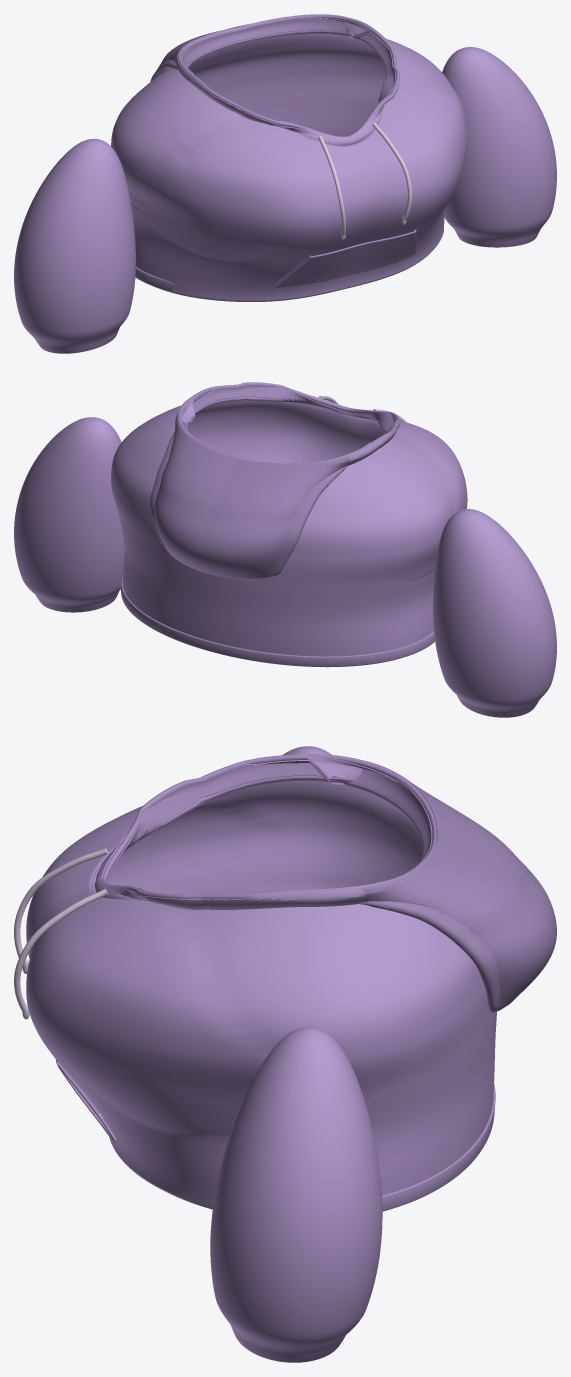
The model's file is Feminine-sweatshirt-top.glb.
3 views of the same model, one above another, from view 1: azimuth 30°, elevation 25°; view 2: azimuth 150°, elevation 25°; view 3: azimuth 270°, elevation 25° (orthographic). The views are drawn at different scales.
Parts seen in each view (by area): view 1: Clothing / sweatshirt, Sleeve / floating fabric -1, Sleeve / floating fabric 1, Hoodie / attached opening, Hoodie / kangaroo pocket, Hoodie / rolled opening export, Hoodie / resting hood, Neckline / fitted crew export, Hoodie / drawcord 1 export, Hoodie / drawcord -1 export, Hoodie / ribbed hem; view 2: Clothing / sweatshirt, Sleeve / floating fabric -1, Hoodie / resting hood, Sleeve / floating fabric 1, Hoodie / ribbed hem, Hoodie / attached opening, Hoodie / rolled opening export; view 3: Clothing / sweatshirt, Sleeve / floating fabric 1, Hoodie / resting hood, Hoodie / attached opening, Hoodie / rolled opening export, Hoodie / ribbed hem, Neckline / fitted crew export, Hoodie / drawcord 1 export, Hoodie / drawcord -1 export.
Part boxes in pixels (x1,y1,x2,y2): Clothing / sweatshirt: (111, 33, 467, 301); Sleeve / floating fabric -1: (14, 138, 135, 353); Sleeve / floating fabric 1: (442, 47, 556, 247); Hoodie / attached opening: (176, 17, 400, 145); Hoodie / kangaroo pocket: (274, 231, 416, 288); Hoodie / rolled opening export: (178, 15, 400, 136); Hoodie / resting hood: (150, 14, 370, 81); Neckline / fitted crew export: (188, 30, 386, 146); Hoodie / drawcord 1 export: (372, 122, 412, 220); Hoodie / drawcord -1 export: (318, 136, 345, 235); Hoodie / ribbed hem: (135, 267, 174, 291); Clothing / sweatshirt: (111, 400, 467, 656); Sleeve / floating fabric -1: (433, 509, 556, 717); Hoodie / resting hood: (150, 399, 370, 579); Sleeve / floating fabric 1: (14, 417, 124, 612); Hoodie / ribbed hem: (121, 576, 434, 666); Hoodie / attached opening: (176, 384, 400, 465); Hoodie / rolled opening export: (178, 382, 400, 463); Clothing / sweatshirt: (26, 780, 496, 1208); Sleeve / floating fabric 1: (210, 1026, 382, 1362); Hoodie / resting hood: (305, 757, 556, 1012); Hoodie / attached opening: (94, 754, 432, 910); Hoodie / rolled opening export: (102, 754, 436, 899); Hoodie / ribbed hem: (382, 1083, 495, 1211); Neckline / fitted crew export: (91, 775, 423, 898); Hoodie / drawcord 1 export: (14, 888, 108, 1012); Hoodie / drawcord -1 export: (14, 848, 108, 964).
Bounding box in the file's own units: 1.14 × 0.4865 × 0.6652.
